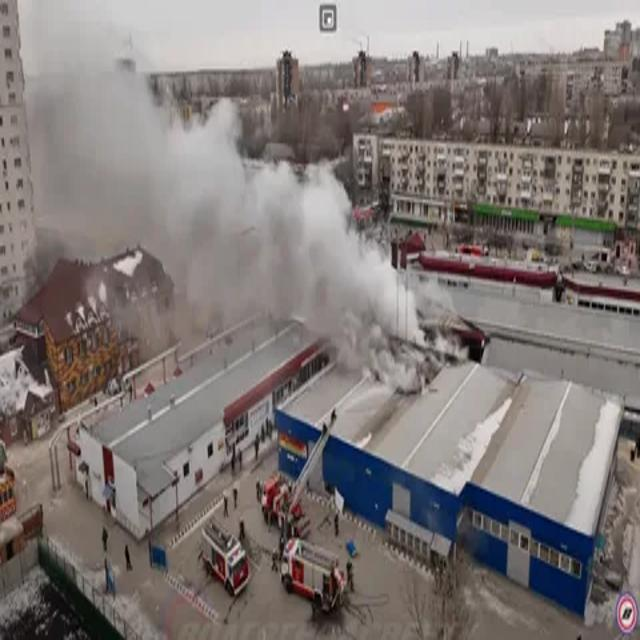Smoke: (41, 68, 468, 388)
